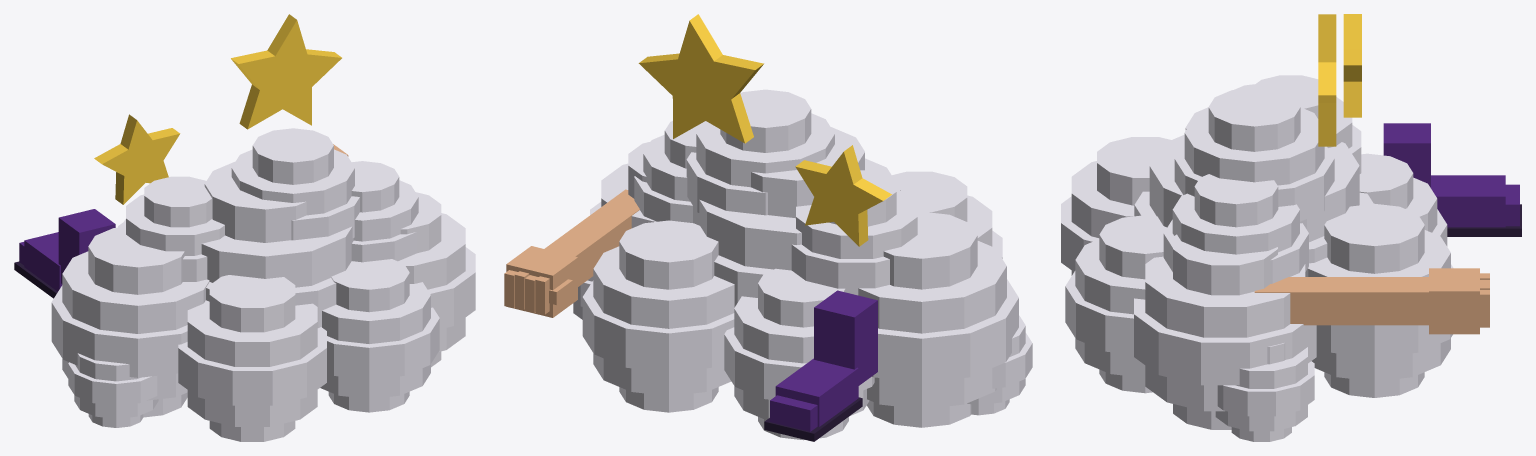
The model's file is dust_cloud.gltf.
3 renders of one model, left to right at view 1: azimuth 30°, elevation 25°; view 2: azimuth 150°, elevation 25°; view 3: azimuth 270°, elevation 25°, orthographic. The views are drawn at different scales.
Parts seen in each view (by area): view 1: puff5_shade_mid, puff3_shade_top1, star_a, puff1_light_top1, puff3_shade_mid, puff5_shade_top1, puff3_shade_top2, puff5_shade_top2, puff1_light_top2, puff7_shade_mid, puff10_light_top2, puff7_shade_top1 (+28 smaller); view 2: star_a, puff3_shade_mid, puff4_light_mid, puff3_shade_top1, puff4_light_top1, puff4_light_top2, puff3_shade_top2, puff1_light_top1, star_b, boot_shin, puff10_light_top1, puff11_light_top1 (+29 smaller); view 3: puff2_light_mid, fist_arm, puff2_light_top1, puff4_light_top2, puff10_light_top1, puff10_light_top2, puff1_light_top1, puff12_shade_top1, puff2_light_top2, puff12_shade_top2, boot_foot, puff4_light_mid (+31 smaller).
Part boxes in pixels (<box>): puff5_shade_mid: <box>178,327,326,405</box>; puff3_shade_top1: <box>62,251,209,333</box>; star_a: <box>231,14,341,129</box>; puff1_light_top1: <box>201,226,353,287</box>; puff3_shade_mid: <box>51,285,187,377</box>; puff5_shade_top1: <box>187,300,317,366</box>; puff3_shade_top2: <box>88,226,184,294</box>; puff5_shade_top2: <box>209,275,295,332</box>; puff1_light_top2: <box>204,162,306,242</box>; puff7_shade_mid: <box>327,307,439,379</box>; puff10_light_top2: <box>252,128,333,184</box>; puff7_shade_top1: <box>322,282,430,343</box>; star_a: <box>638,14,763,143</box>; puff3_shade_mid: <box>872,279,1018,382</box>; puff4_light_mid: <box>582,280,734,372</box>; puff3_shade_top1: <box>858,241,1006,333</box>; puff4_light_top1: <box>593,246,734,328</box>; puff4_light_top2: <box>619,220,718,289</box>; puff3_shade_top2: <box>883,211,977,289</box>; puff1_light_top1: <box>693,158,900,270</box>; star_b: <box>795,145,891,246</box>; boot_shin: <box>814,290,877,385</box>; puff10_light_top1: <box>696,113,834,187</box>; puff11_light_top1: <box>796,190,917,258</box>; puff2_light_mid: <box>1134,298,1316,385</box>; fist_arm: <box>1254,277,1428,325</box>; puff2_light_top1: <box>1145,256,1305,337</box>; puff4_light_top2: <box>1324,203,1424,273</box>; puff10_light_top1: <box>1184,111,1324,185</box>; puff10_light_top2: <box>1208,87,1300,151</box>; puff1_light_top1: <box>1149,134,1359,242</box>; puff12_shade_top1: <box>1172,193,1299,254</box>; puff2_light_top2: <box>1173,234,1277,295</box>; puff12_shade_top2: <box>1194,174,1278,227</box>; boot_foot: <box>1431,175,1505,227</box>; puff4_light_mid: <box>1316,264,1453,357</box>.
Size of the model in its own units: 1.41 by 1.1 by 1.27.
5 materials, 5 textured.
